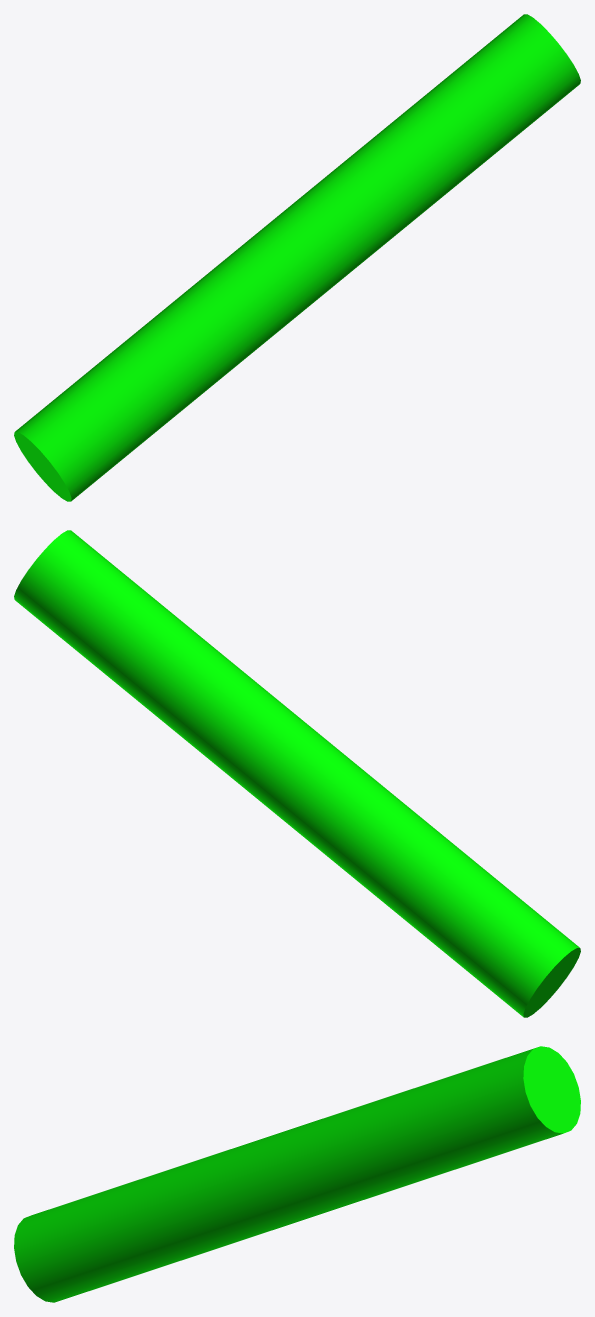
File: rightarm.obj
3 views of the same model, one above another, from view 1: azimuth 30°, elevation 25°; view 2: azimuth 150°, elevation 25°; view 3: azimuth 330°, elevation 25° (orthographic).
Visible parts, largest first — view 1: pCylinder3; view 2: pCylinder3; view 3: pCylinder3.
Part boxes in pixels (<box>): pCylinder3: <box>14,14,580,501</box>; pCylinder3: <box>14,530,580,1017</box>; pCylinder3: <box>14,1046,580,1302</box>.
Bounding box in the file's own units: 55.22 × 35.25 × 7.61.
